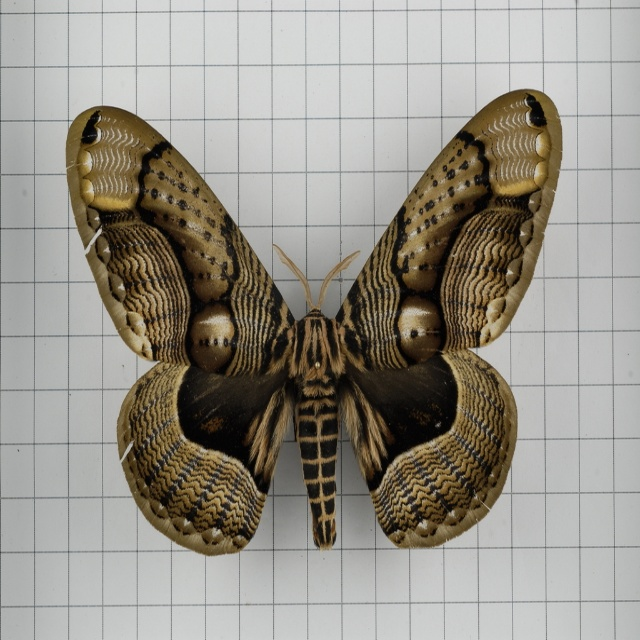Butterfly: (66, 104, 563, 557)
